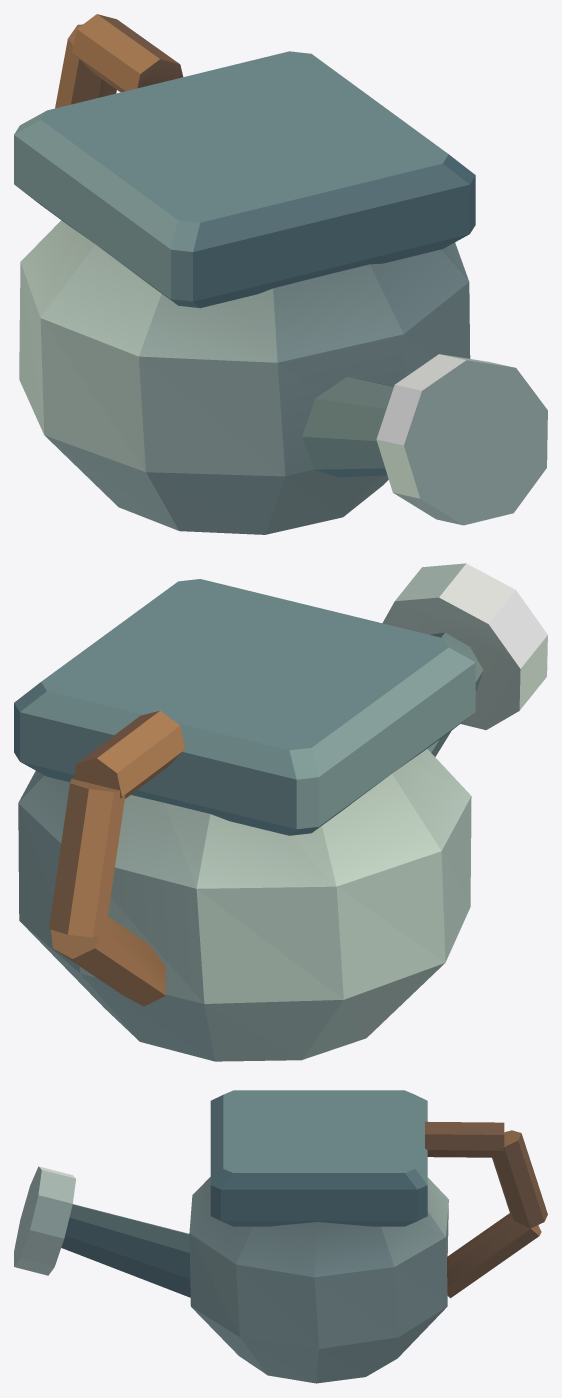
Rendered from star_can.glb.
3 views of the same model, one above another, from view 1: azimuth 30°, elevation 25°; view 2: azimuth 150°, elevation 25°; view 3: azimuth 270°, elevation 25° (orthographic). The views are drawn at different scales.
Visible parts, largest first — view 1: star_can; view 2: star_can; view 3: star_can.
Boxes of the visible parts, x1=… form: star_can: x1=14, y1=14, x2=547, y2=534; star_can: x1=14, y1=563, x2=547, y2=1061; star_can: x1=14, y1=1090, x2=547, y2=1383.
Bounding box in the file's own units: 0.3291 × 0.308 × 0.6059.
